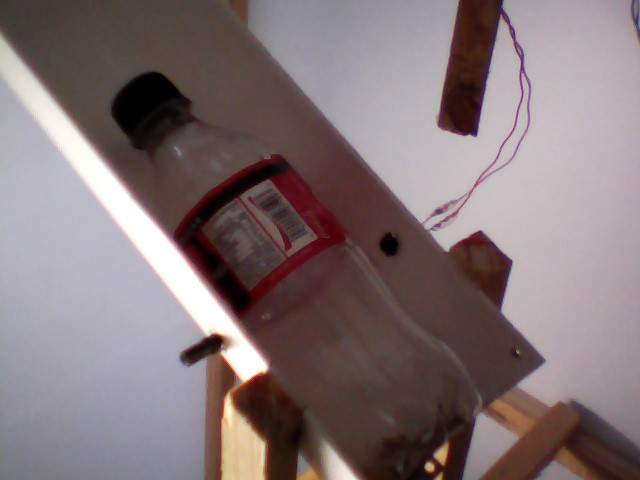plastico: (95, 63, 496, 480)
